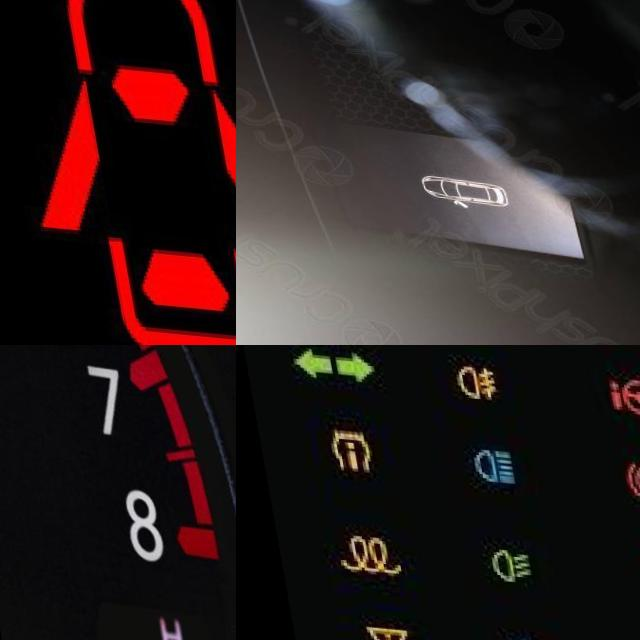Electronic Power Steering: (596, 367, 640, 414)
